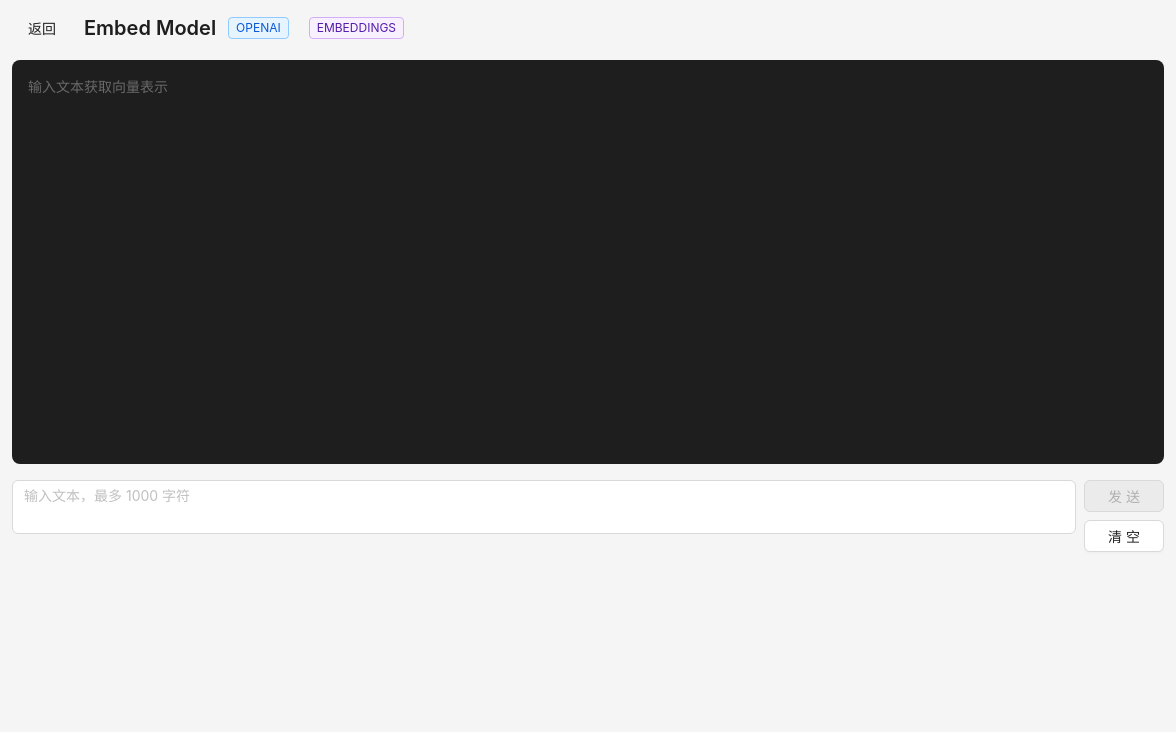
Test: ModelTest EMBEDDINGS 分支 › 点击清空按钮应清空输入与结果
The image size is (1176, 732).
Type "待清空内容" into the text box with placeholder "输入文本，最多 1000 字符".
click(544, 507); type("待清空内容")  # box [12,480,1076,534]
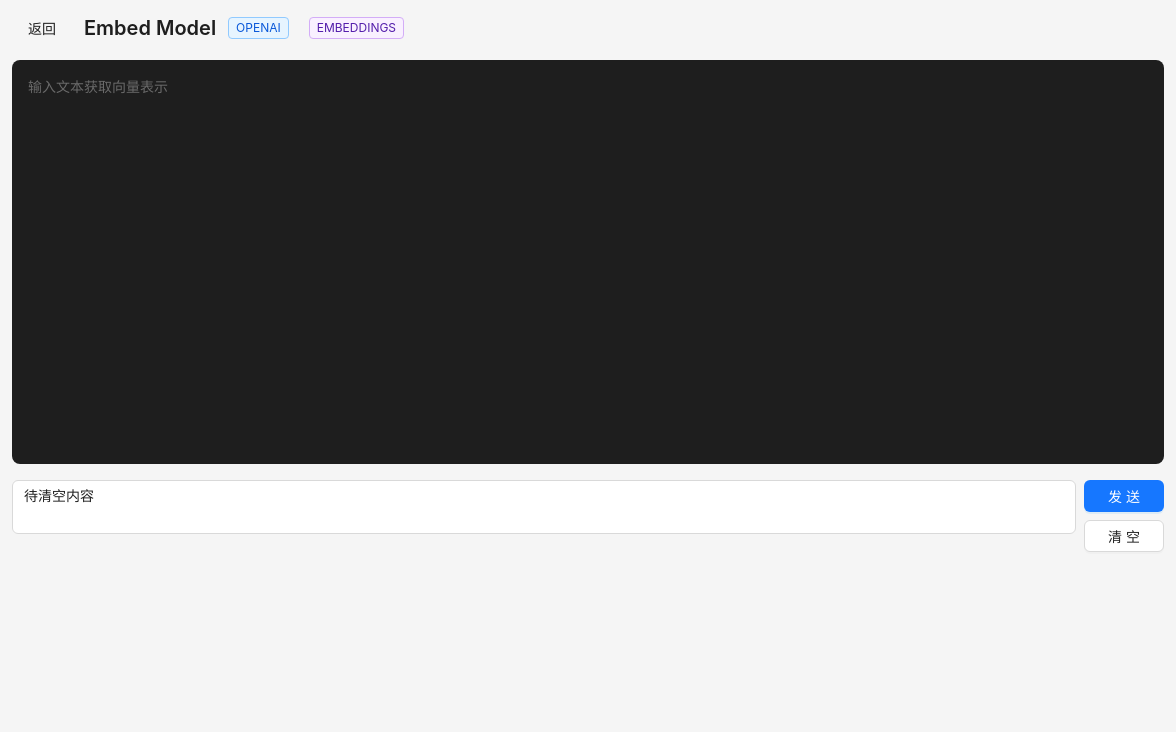
Click the button "发 送".
click(1124, 496)  # box [1084,480,1164,512]
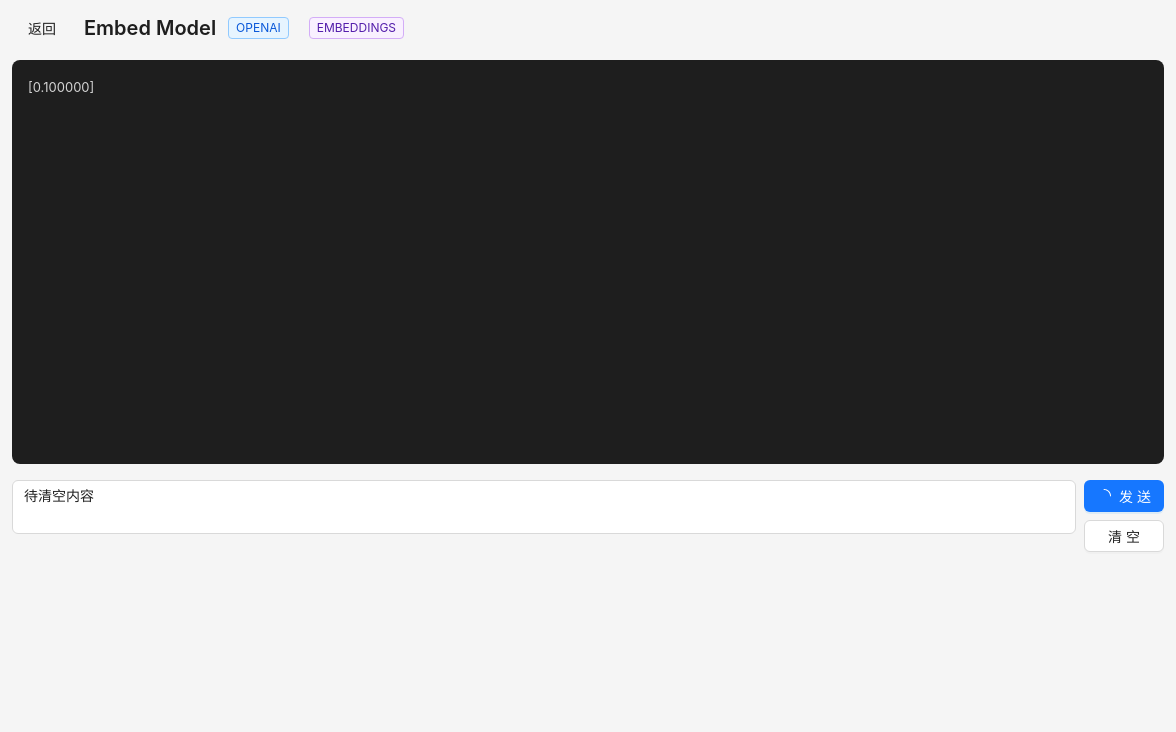
expect the text "[0.100000]" is shown: met, box [28,79,94,95]
Click the button "清 空".
click(1124, 536)  # box [1084,520,1164,552]
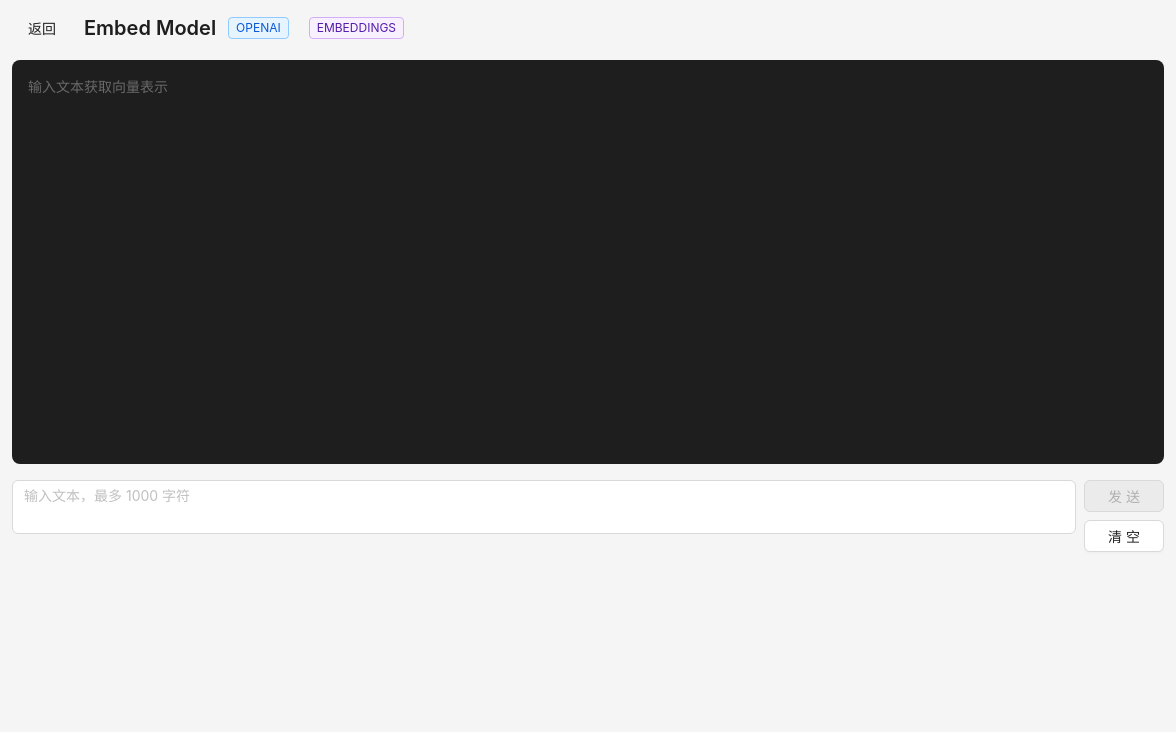
expect the text box with placeholder "输入文本，最多 1000 字符" is empty: met, box [12,480,1076,534]
expect the text "[0.100000]" is gone: met
expect the text "输入文本获取向量表示" is shown: met, box [28,78,168,95]
